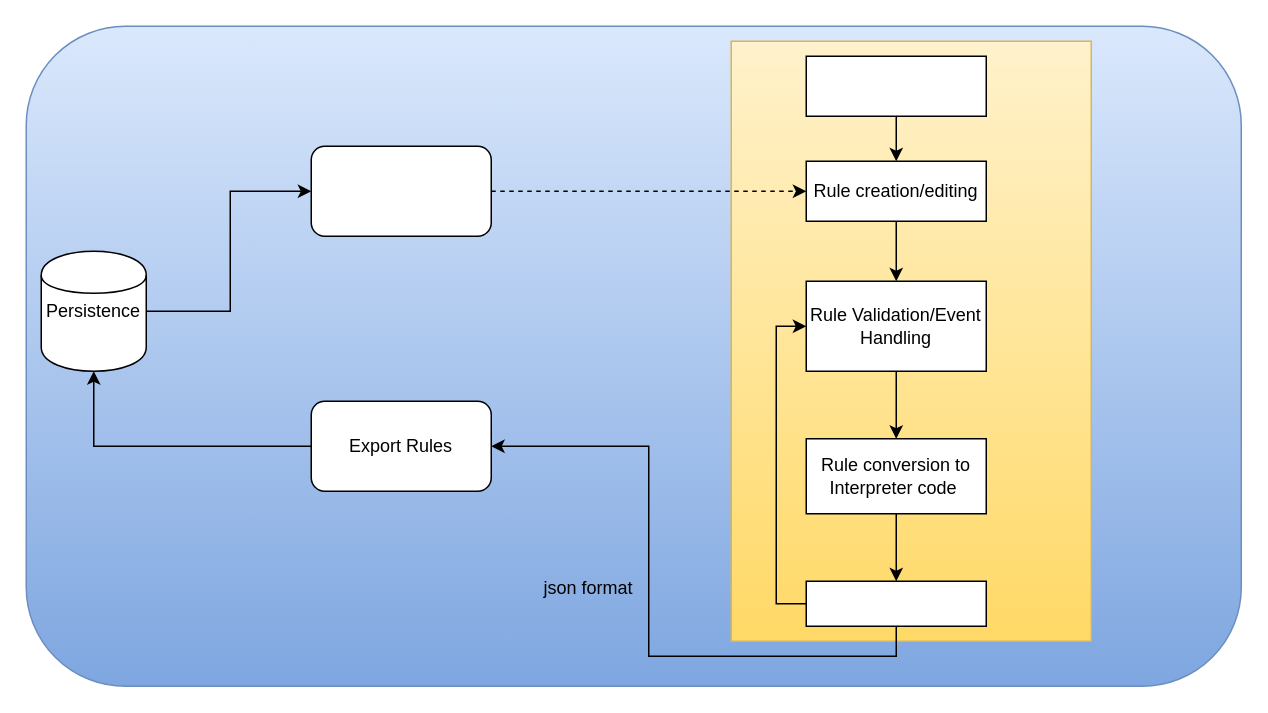
Image size: 1268x713. Some labels were removed from this diagram. Each missing label, with the box of its shape:
Import Rules: (310, 145, 491, 236)
Save: (805, 580, 986, 626)
User Interface: (805, 55, 986, 116)
